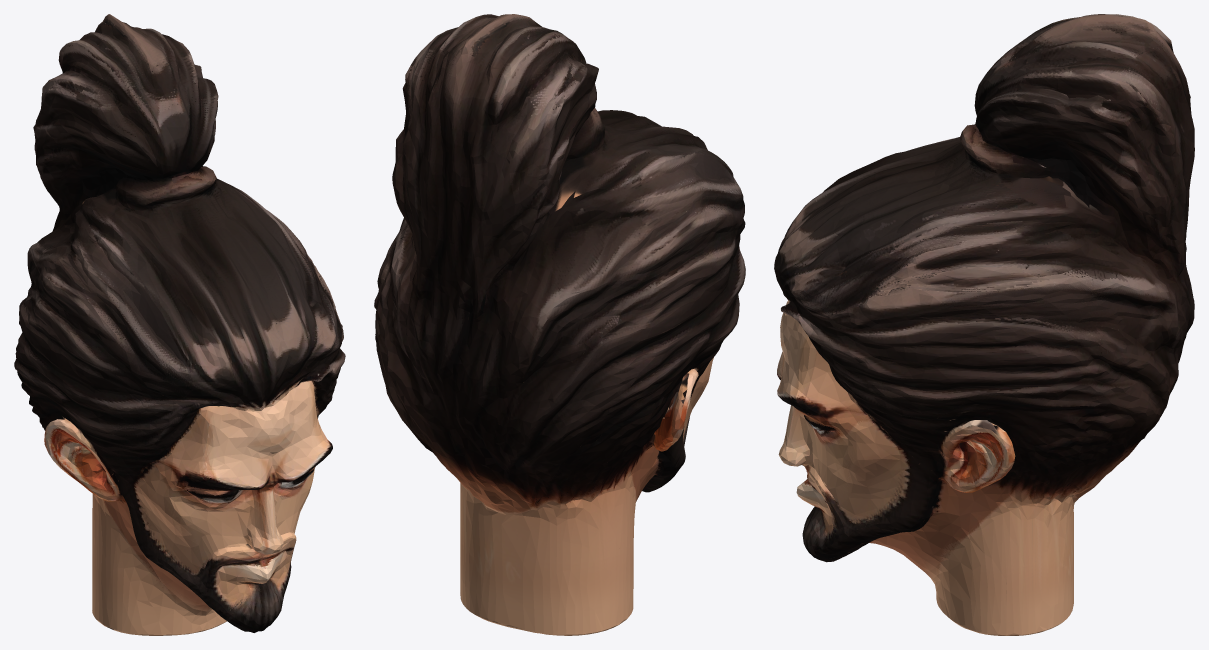
The model's file is side_yoritomo_repaired_atlas.glb.
The picture shows the model from 3 angles, left to right: view 1: azimuth 30°, elevation 25°; view 2: azimuth 150°, elevation 25°; view 3: azimuth 270°, elevation 25°; orthographic projection. The views are drawn at different scales.
Parts seen in each view (by area): view 1: temp_mesh.ply; view 2: temp_mesh.ply; view 3: temp_mesh.ply.
Boxes of the visible parts, x1,y1,x2,y2 form: temp_mesh.ply: (14, 14, 345, 635); temp_mesh.ply: (374, 14, 745, 635); temp_mesh.ply: (774, 14, 1194, 635).
Bounding box in the file's own units: 0.9634 × 1.96 × 1.27.
Materials: 1 (1 with a texture image).
